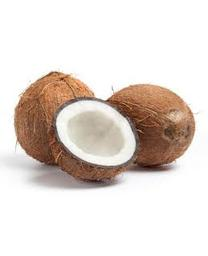coconut: (49, 95, 141, 182), (105, 82, 196, 169), (14, 75, 94, 166)
